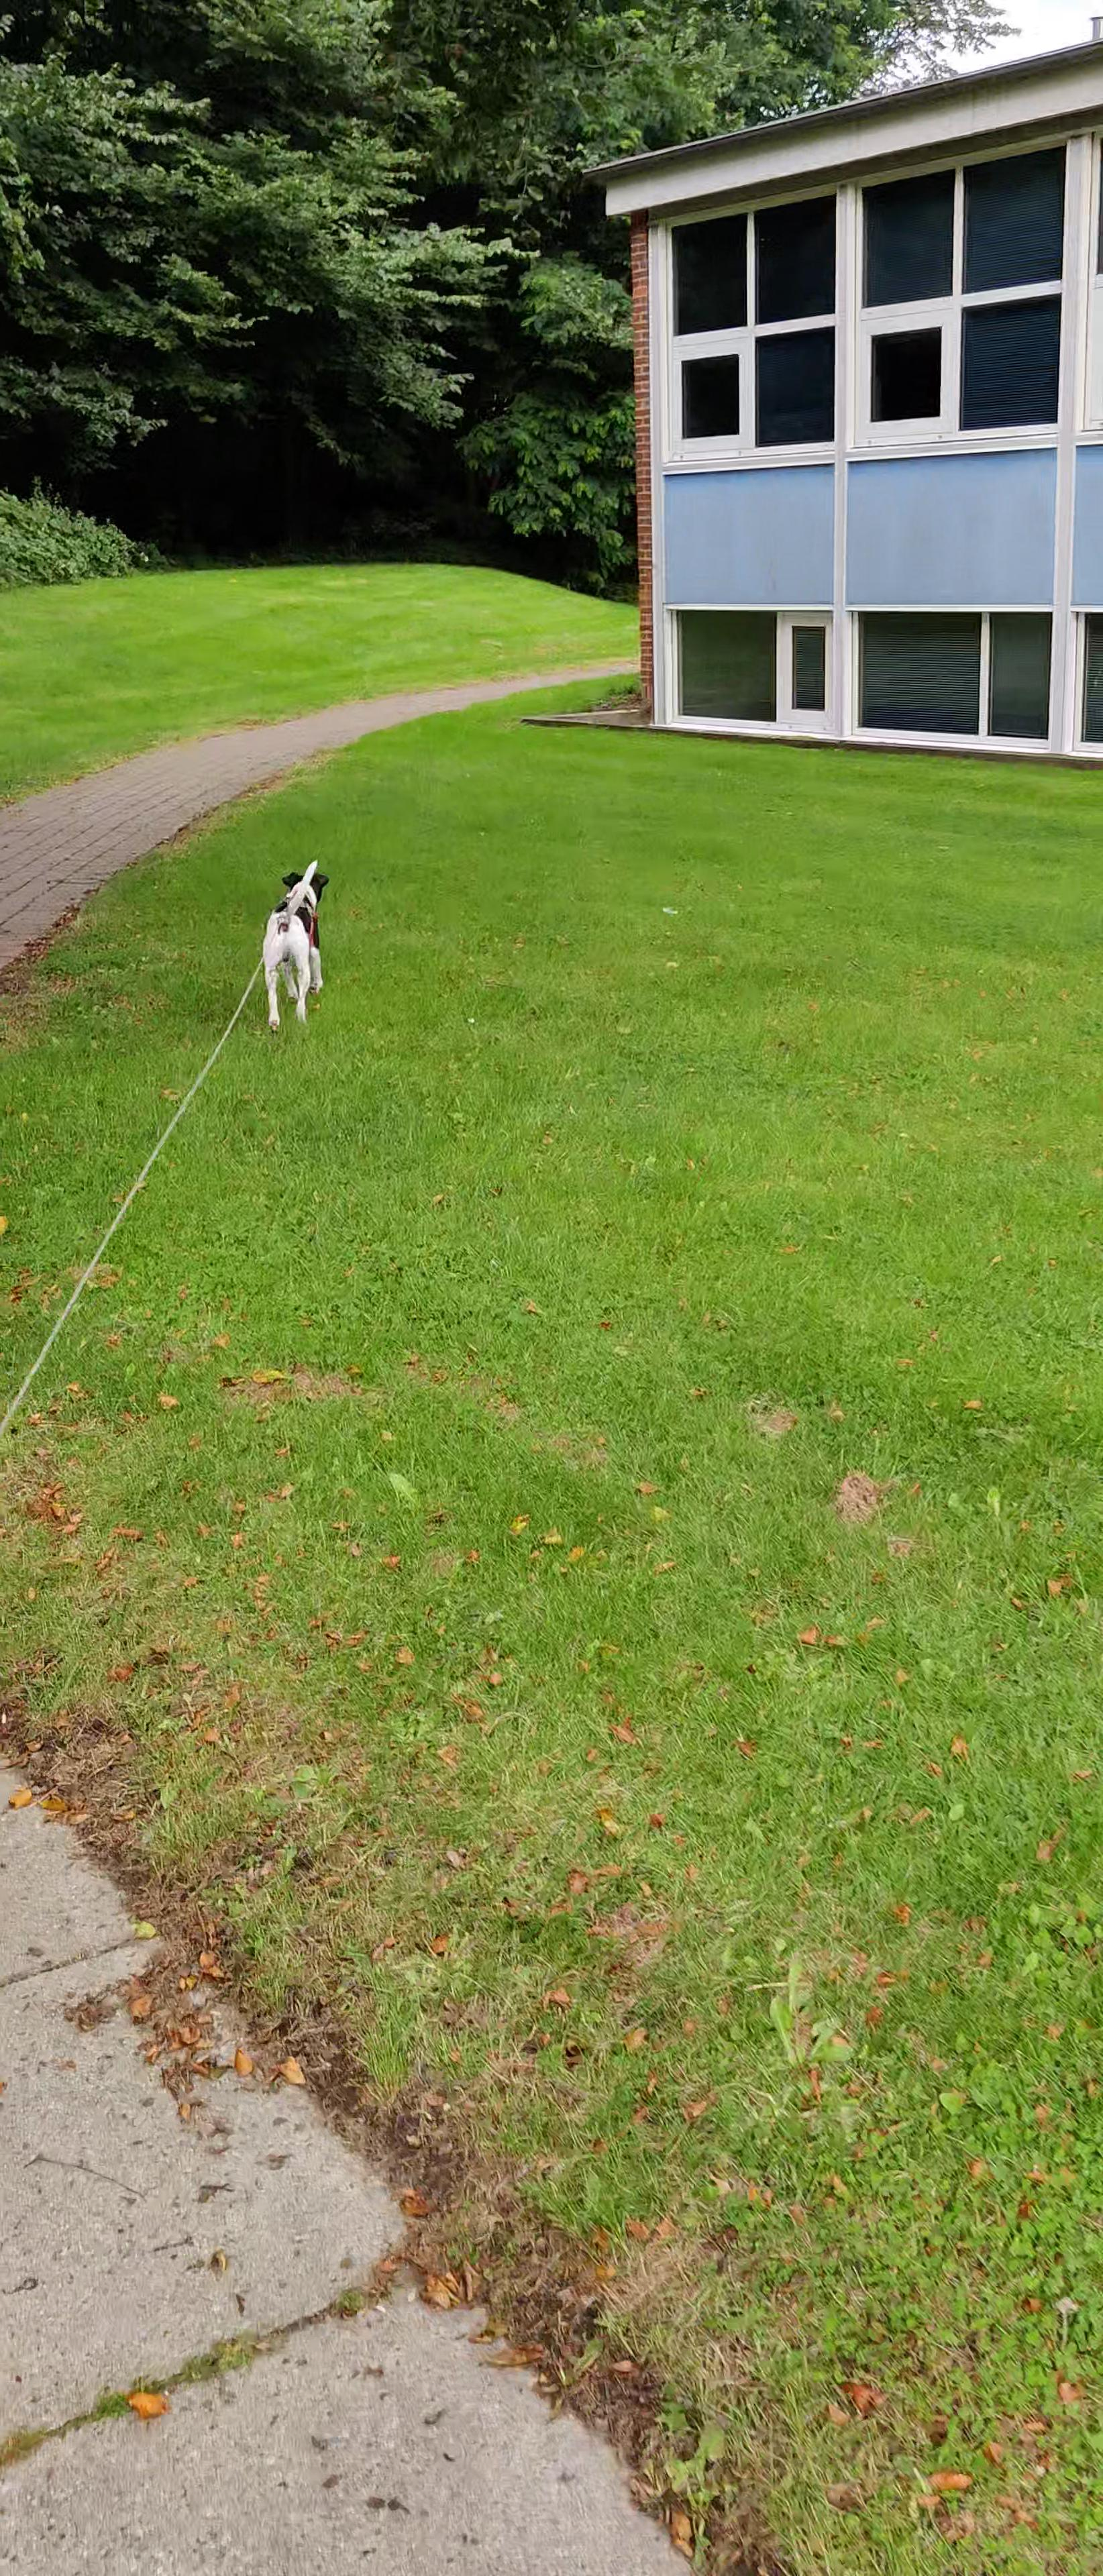Dog: (242, 849, 362, 1051)
